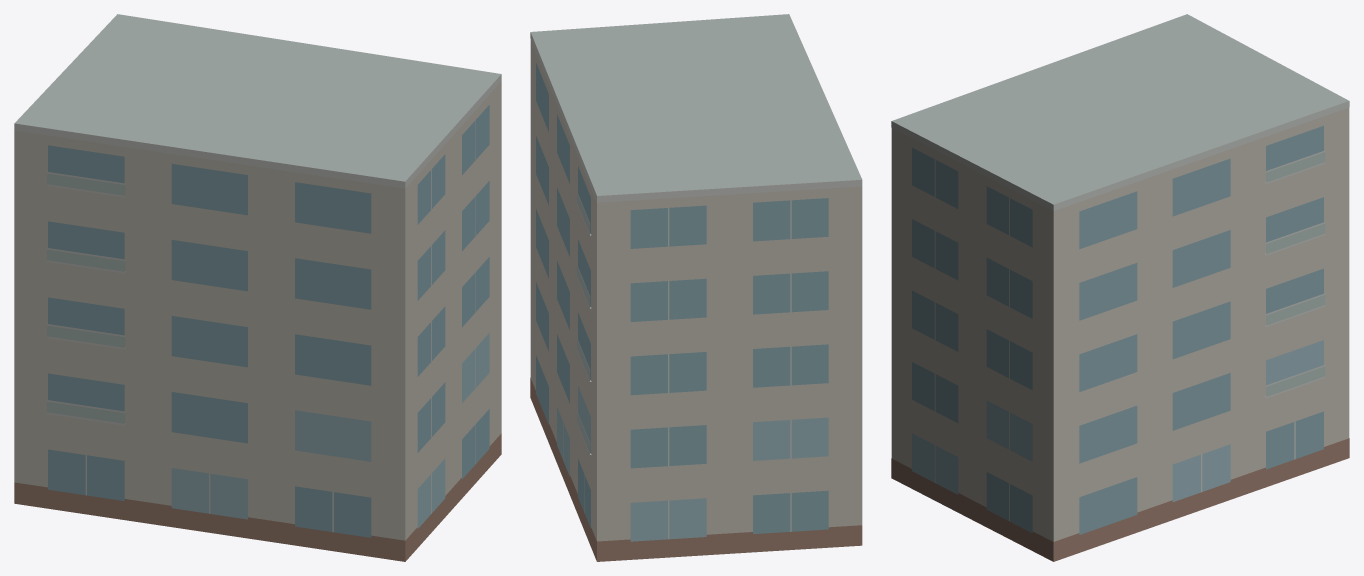
The model's file is survey-upis-32744707.glb.
The picture shows the model from 3 angles, left to right: view 1: azimuth 30°, elevation 25°; view 2: azimuth 150°, elevation 25°; view 3: azimuth 270°, elevation 25°; orthographic projection. The views are drawn at different scales.
Parts seen in each view (by area): view 1: survey-upis-32744707.tmp; view 2: survey-upis-32744707.tmp; view 3: survey-upis-32744707.tmp.
Boxes of the visible parts, <box> form: survey-upis-32744707.tmp: <box>14,14,501,561</box>; survey-upis-32744707.tmp: <box>530,14,862,561</box>; survey-upis-32744707.tmp: <box>891,14,1349,561</box>.
Size of the model in its own units: 15.35 by 13.4 by 15.58.
